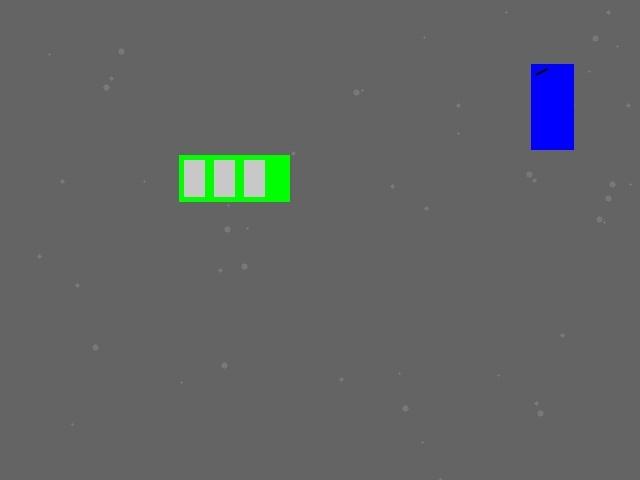bus: (179, 155, 289, 201)
motorcycle: (531, 64, 573, 149)
